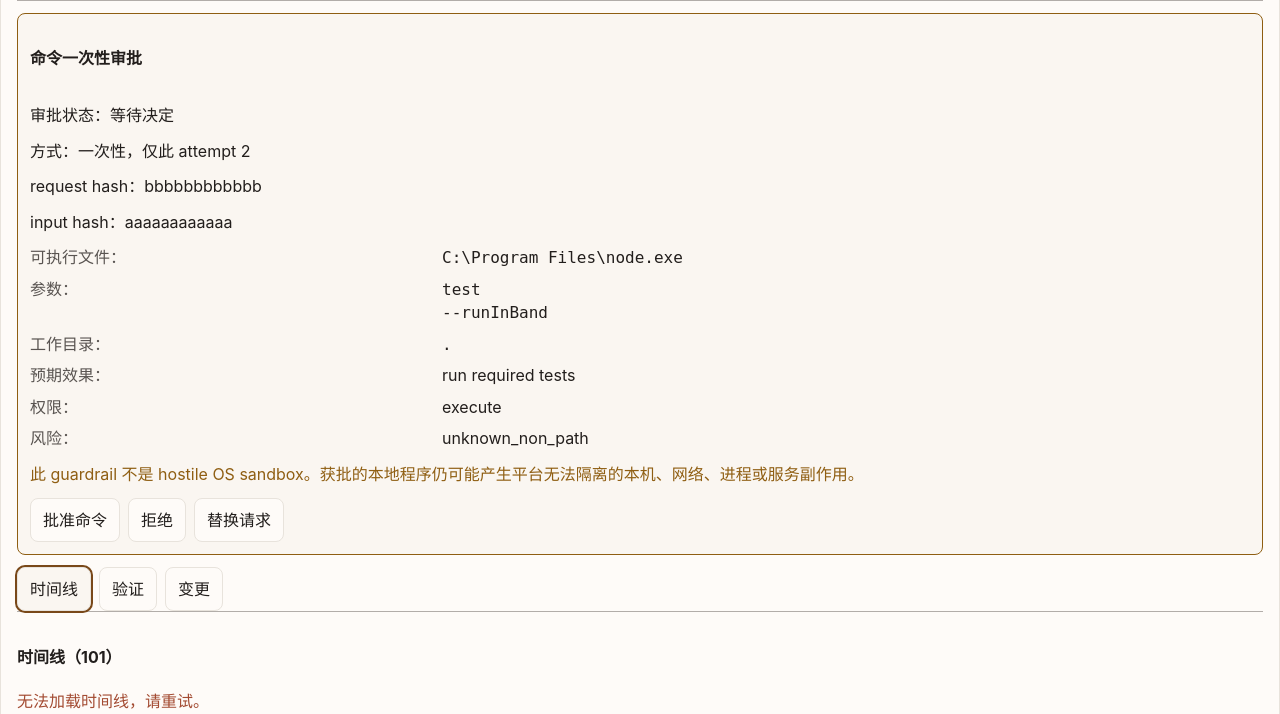
T-29 execution review UI › shows exact one-shot command approval details and supports approve, reject, revoke, and replace states
This screenshot has width=1280, height=714.
(page scrolled)
Expected: the dialog "命令一次性审批" shows "C:\\Program Files\\node.exe", [442,248,683,267]
Expected: the dialog "命令一次性审批" shows "test", [442,280,480,299]
Click the button "批准命令" at (75, 520), box [30,498,120,542]
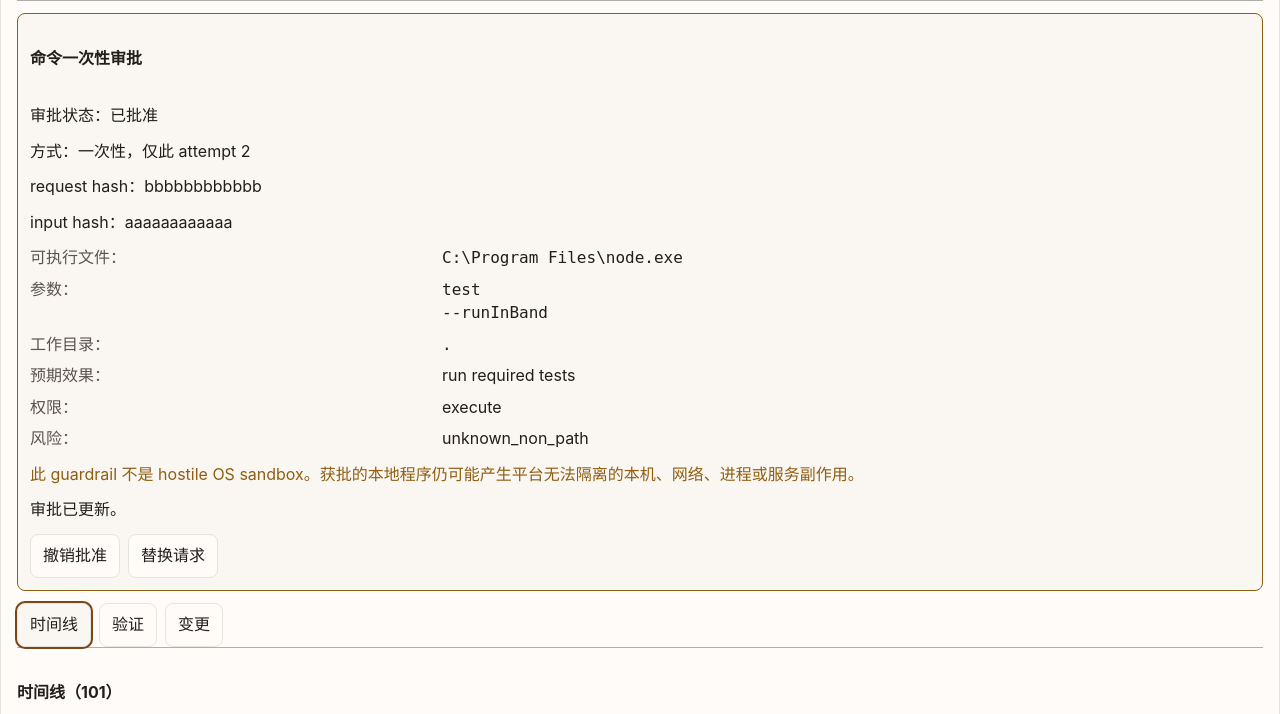
Expected: the text "审批状态：已批准" is shown, [30,105,158,125]
Click the button "撤销批准" at (75, 556), box [30,534,120,578]
(page scrolled)
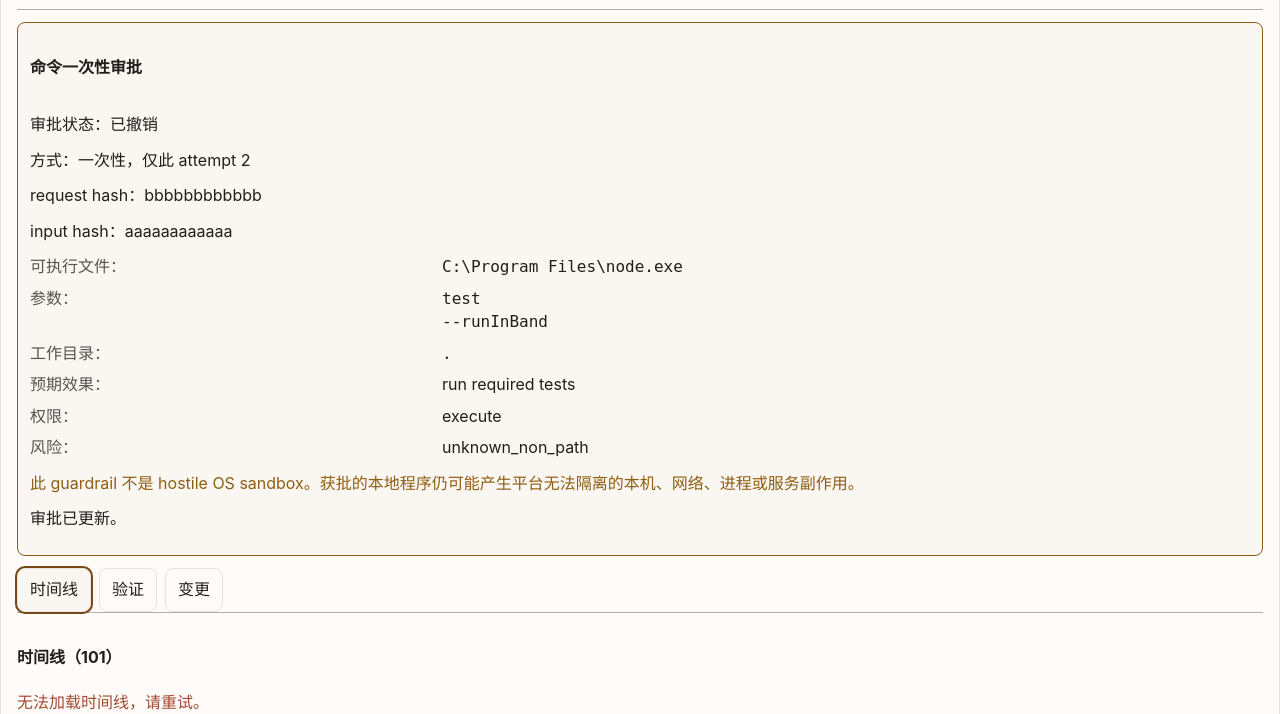
Expected: the text "审批状态：已撤销" is shown, [30,114,158,134]
